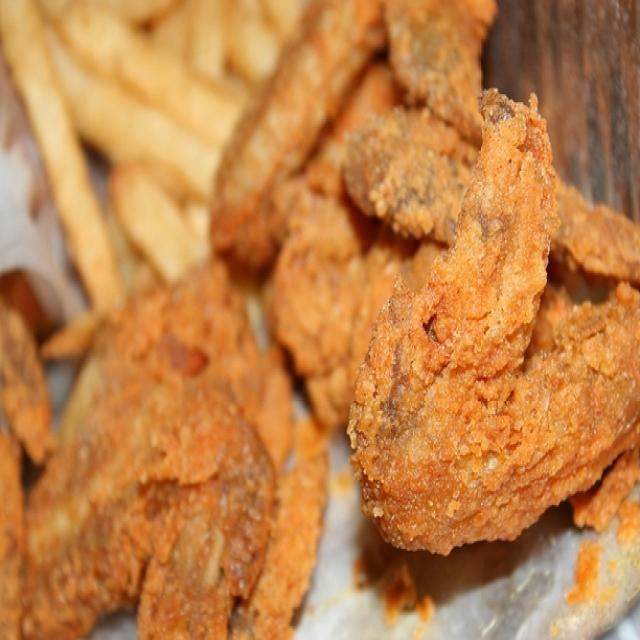Deep fried chicken wing: (97, 49, 617, 627)
